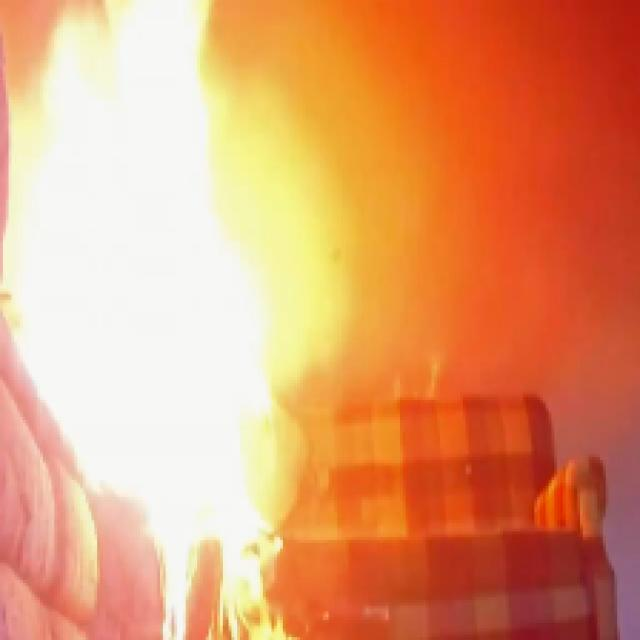Fire: (31, 12, 266, 457), (152, 497, 292, 637)
Smoke: (311, 46, 446, 383)
